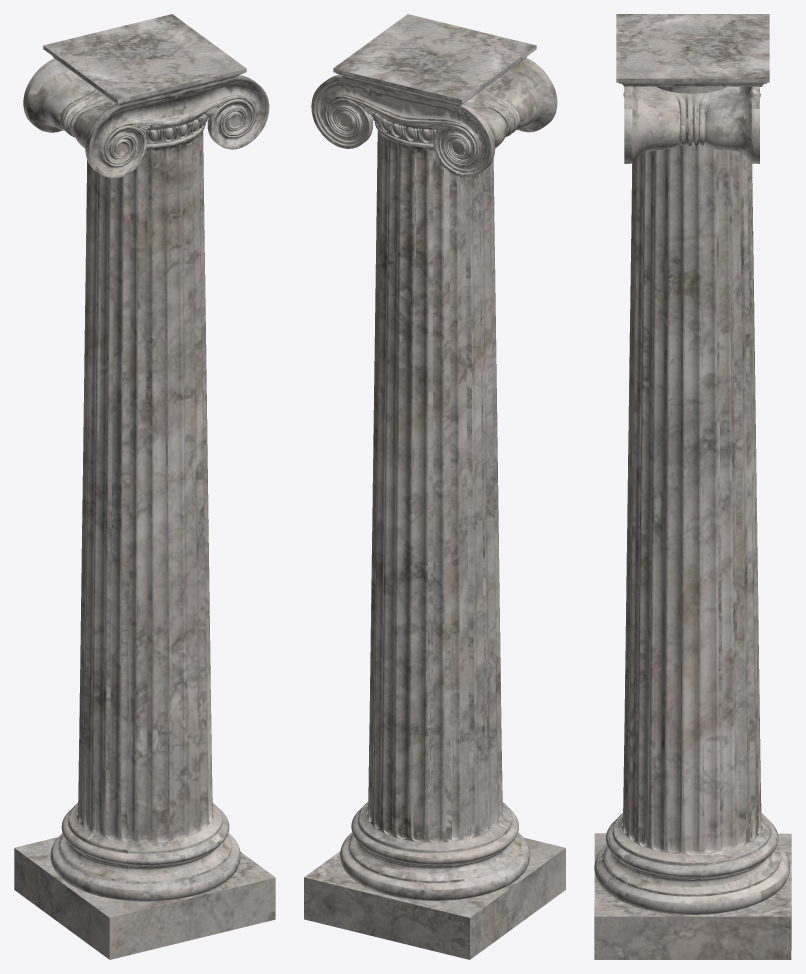
The model's file is ionic_order.glb.
3 renders of one model, left to right at view 1: azimuth 30°, elevation 25°; view 2: azimuth 150°, elevation 25°; view 3: azimuth 270°, elevation 25°, orthographic. The views are drawn at different scales.
Parts seen in each view (by area): view 1: SM_column; view 2: SM_column; view 3: SM_column.
Part boxes in pixels (x1,y1,x2,y2): SM_column: (14, 14, 275, 959); SM_column: (304, 14, 565, 959); SM_column: (594, 14, 791, 959).
Size of the model in its own units: 2.17 by 9.76 by 2.
Materials: 1 (1 with a texture image).
